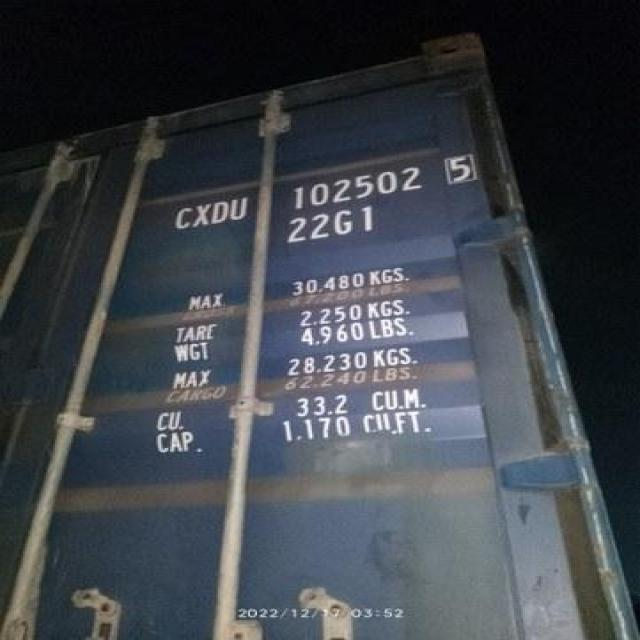ISO: (289, 204, 376, 250)
container_number: (170, 144, 480, 232)
